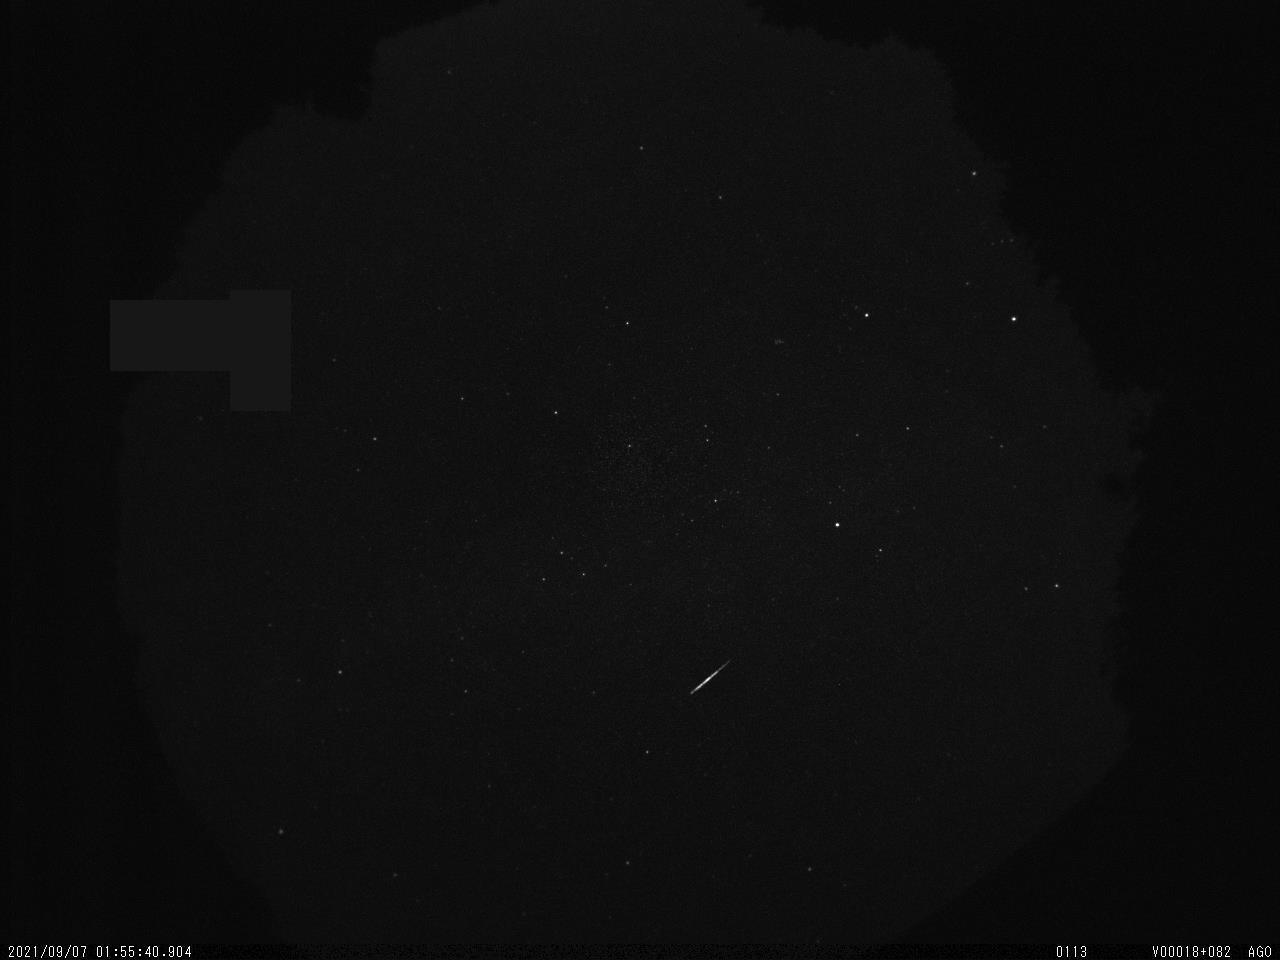meteor: (669, 650, 744, 711)
